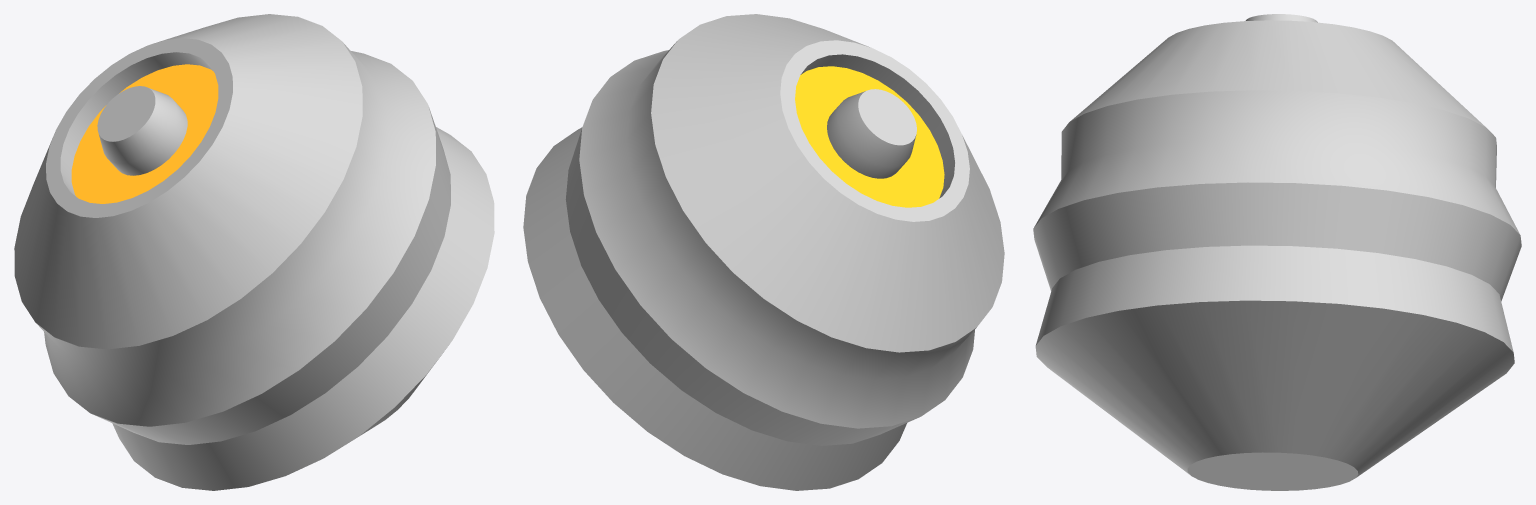
File: lantern.glb
3 renders of one model, left to right at view 1: azimuth 30°, elevation 25°; view 2: azimuth 150°, elevation 25°; view 3: azimuth 270°, elevation 25°, orthographic. The views are drawn at different scales.
Visible parts, largest first — view 1: lantern; view 2: lantern; view 3: lantern.
Boxes of the visible parts, x1,y1,x2,y2 form: lantern: [14, 14, 494, 490]; lantern: [523, 14, 1004, 490]; lantern: [1033, 14, 1521, 490].
Size of the model in its own units: 0.2281 by 0.2148 by 0.2242.
